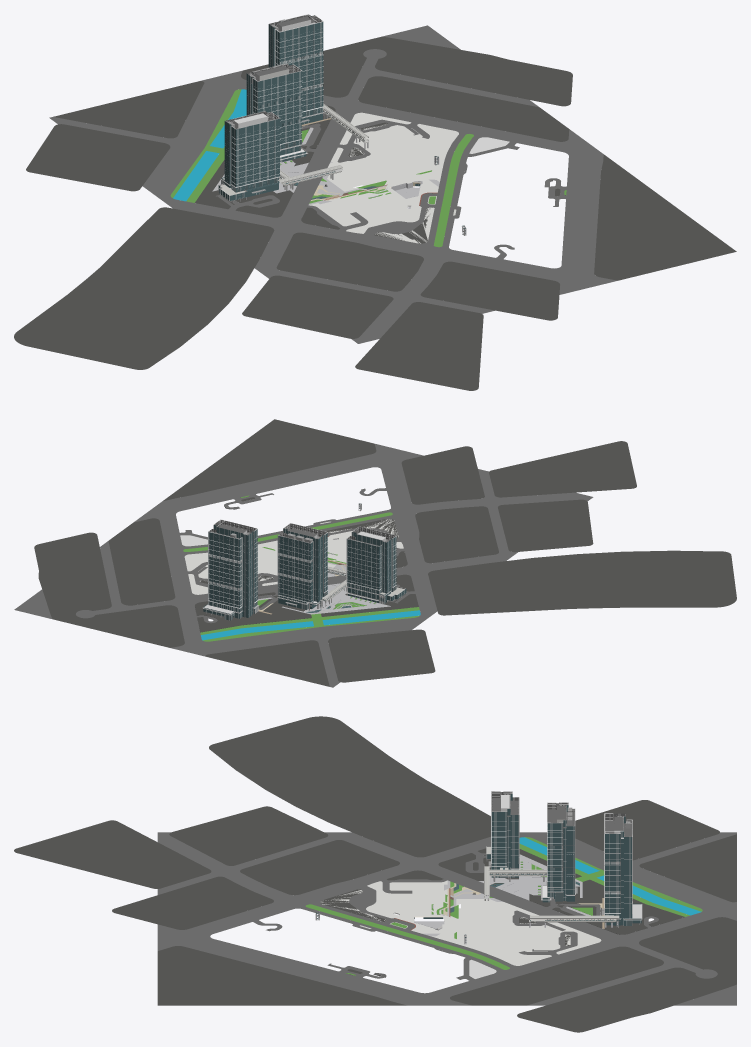
File: venue-ab-towers-event.glb
The picture shows the model from 3 angles, top to bottom: view 1: azimuth 30°, elevation 25°; view 2: azimuth 150°, elevation 25°; view 3: azimuth 270°, elevation 25°; orthographic projection. The views are drawn at different scales.
Visible parts, largest first — view 1: [Color A04], [Color M05], [Color H01]1, [Color A04]2, [Vegetation_Grass_Artificial]5, [Color M03]11, [Polished Concrete New]4, Original default, [Water Sparkling], [Color M01]2, *37, + people color (+1 smaller); view 2: [Color A04], [Color M05], [Color H01]1, [Vegetation_Grass_Artificial]5, [Color A04]2, [Color M03]11, *36, [Color M01]2, [Water Sparkling], [Polished Concrete New]4, *37, + people color (+1 smaller); view 3: [Color A04], [Color M05], [Color A04]2, [Color H01]1, [Vegetation_Grass_Artificial]5, [Polished Concrete New]4, Original default, [Color M03]11, [Water Sparkling], [Color M01]2, *37, *36.
Boxes of the visible parts, left/top/right/bottom form: [Color A04]: left=14, top=36, right=736, bottom=390; [Color M05]: left=49, top=15, right=617, bottom=343; [Color H01]1: left=218, top=15, right=465, bottom=234; [Color A04]2: left=309, top=112, right=458, bottom=243; [Vegetation_Grass_Artificial]5: left=170, top=89, right=566, bottom=247; [Color M03]11: left=233, top=15, right=311, bottom=186; [Polished Concrete New]4: left=212, top=127, right=439, bottom=208; Original default: left=220, top=69, right=463, bottom=226; [Water Sparkling]: left=173, top=89, right=246, bottom=201; [Color M01]2: left=230, top=15, right=365, bottom=188; *37: left=218, top=14, right=509, bottom=200; + people color: left=232, top=15, right=464, bottom=227; [Color A04]: left=34, top=419, right=736, bottom=686; [Color M05]: left=14, top=444, right=593, bottom=687; [Color H01]1: left=203, top=503, right=406, bottom=620; [Vegetation_Grass_Artificial]5: left=183, top=495, right=419, bottom=641; [Color A04]2: left=184, top=519, right=403, bottom=594; [Color M03]11: left=211, top=524, right=395, bottom=606; *36: left=277, top=523, right=396, bottom=609; [Color M01]2: left=203, top=520, right=391, bottom=617; [Water Sparkling]: left=201, top=610, right=420, bottom=640; [Polished Concrete New]4: left=257, top=538, right=390, bottom=614; *37: left=180, top=519, right=404, bottom=620; + people color: left=209, top=509, right=396, bottom=607; [Color A04]: left=14, top=716, right=736, bottom=1032; [Color M05]: left=157, top=791, right=736, bottom=1005; [Color A04]2: left=321, top=880, right=601, bottom=965; [Color H01]1: left=316, top=794, right=641, bottom=942; [Vegetation_Grass_Artificial]5: left=305, top=837, right=702, bottom=975; [Polished Concrete New]4: left=414, top=854, right=590, bottom=936; Original default: left=319, top=819, right=619, bottom=935; [Color M03]11: left=491, top=792, right=632, bottom=901; [Water Sparkling]: left=519, top=837, right=701, bottom=915; [Color M01]2: left=485, top=812, right=642, bottom=924; *37: left=469, top=813, right=640, bottom=978; *36: left=491, top=791, right=575, bottom=900.
Size of the model in its own units: 1085 by 155 by 1049.
